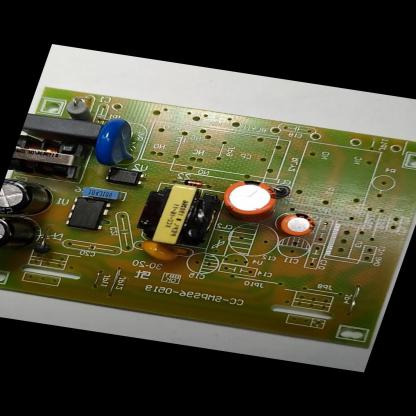Cap1: (216, 176, 284, 223)
Cap2: (275, 210, 318, 238)
Cap3: (0, 177, 59, 223)
Cap4: (0, 215, 45, 258)
MOSFET: (61, 194, 112, 232)
Mov: (87, 115, 148, 171)
Resistor: (60, 97, 103, 122)
Transformer: (132, 179, 223, 250), (8, 132, 89, 180)
